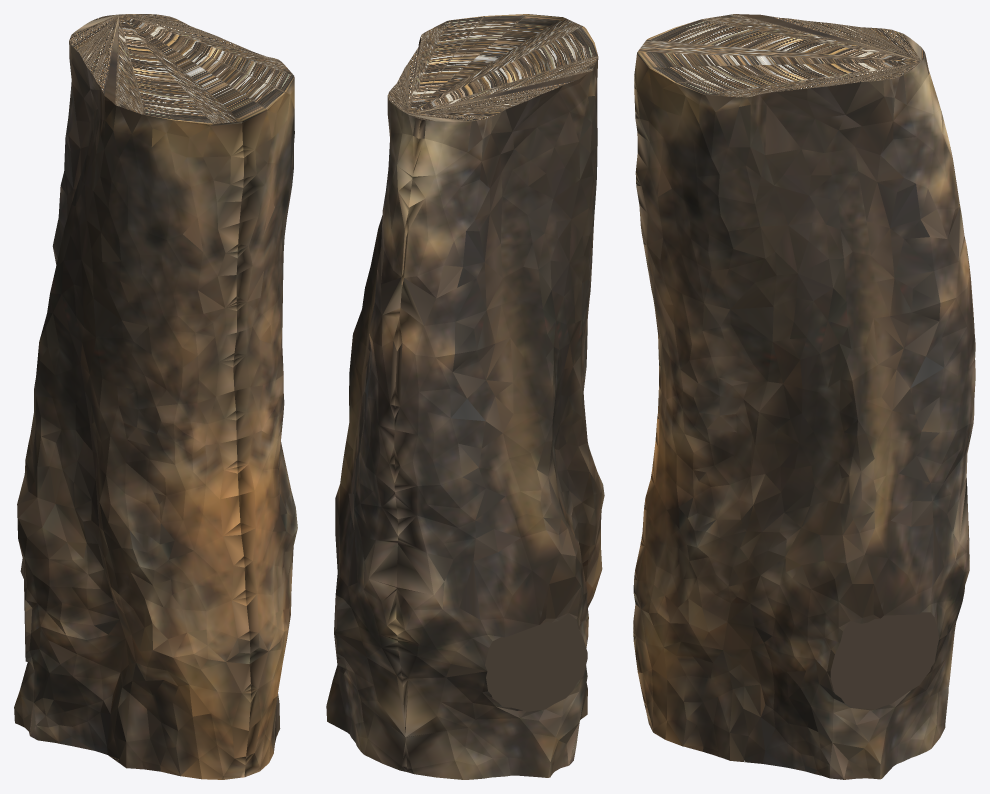
The model's file is Sungaya_inexpectata_31mg.018.obj.
3 views of the same model, side by side, from view 1: azimuth 30°, elevation 25°; view 2: azimuth 150°, elevation 25°; view 3: azimuth 270°, elevation 25° (orthographic). The views are drawn at different scales.
Parts seen in each view (by area): view 1: 05-t2_Sungaya_inexpectata_31mg.018; view 2: 05-t2_Sungaya_inexpectata_31mg.018; view 3: 05-t2_Sungaya_inexpectata_31mg.018.
Boxes of the visible parts, box(x1,y1,x2,y2) form: 05-t2_Sungaya_inexpectata_31mg.018: box(14, 14, 297, 779); 05-t2_Sungaya_inexpectata_31mg.018: box(326, 14, 604, 779); 05-t2_Sungaya_inexpectata_31mg.018: box(633, 14, 975, 779).
Bounding box in the file's own units: 0.00173 × 0.00432 × 0.002.
Materials: 1 (1 with a texture image).
